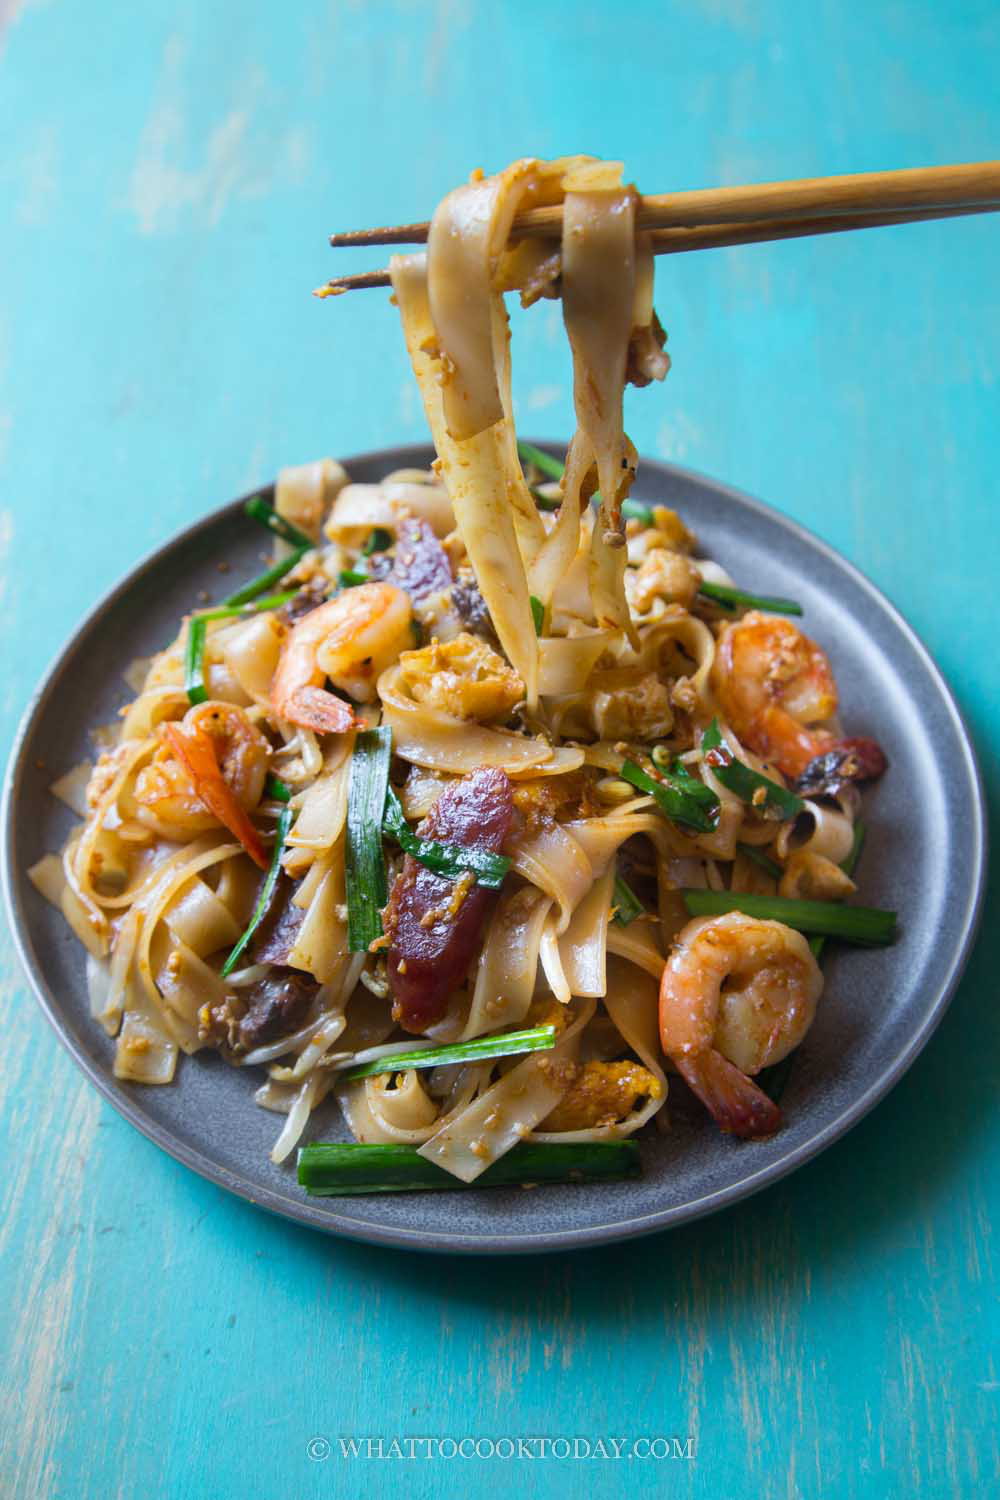Char Kway Teow: (81, 373, 869, 1208)
